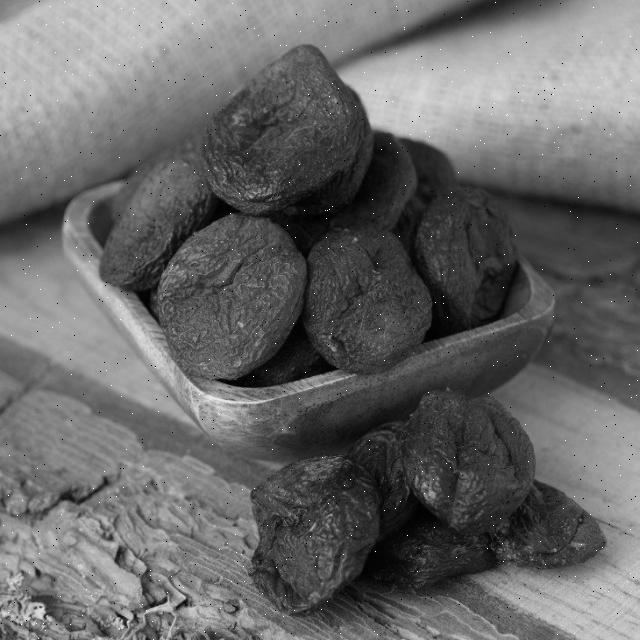Kayisi: (201, 44, 364, 214), (159, 216, 305, 375), (300, 224, 442, 378), (251, 457, 377, 613), (411, 385, 536, 534), (96, 167, 214, 282)
